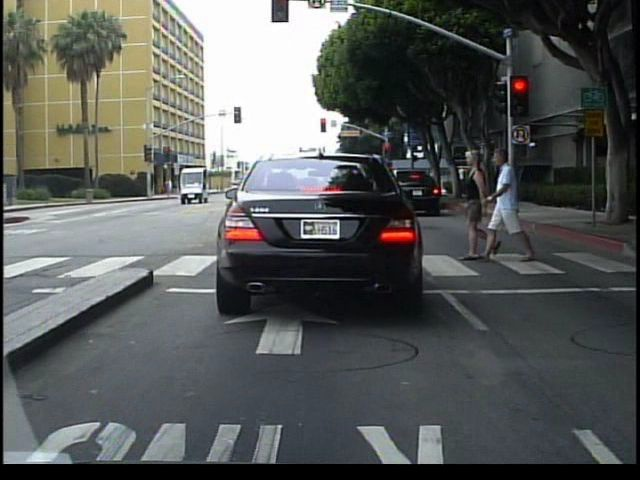person: (488, 139, 531, 262), (453, 146, 498, 262)
